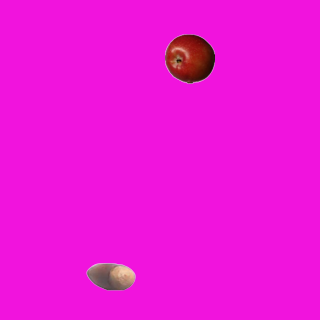Apple Braeburn: (164, 33, 214, 83)
Hazelnut: (85, 251, 135, 301)
